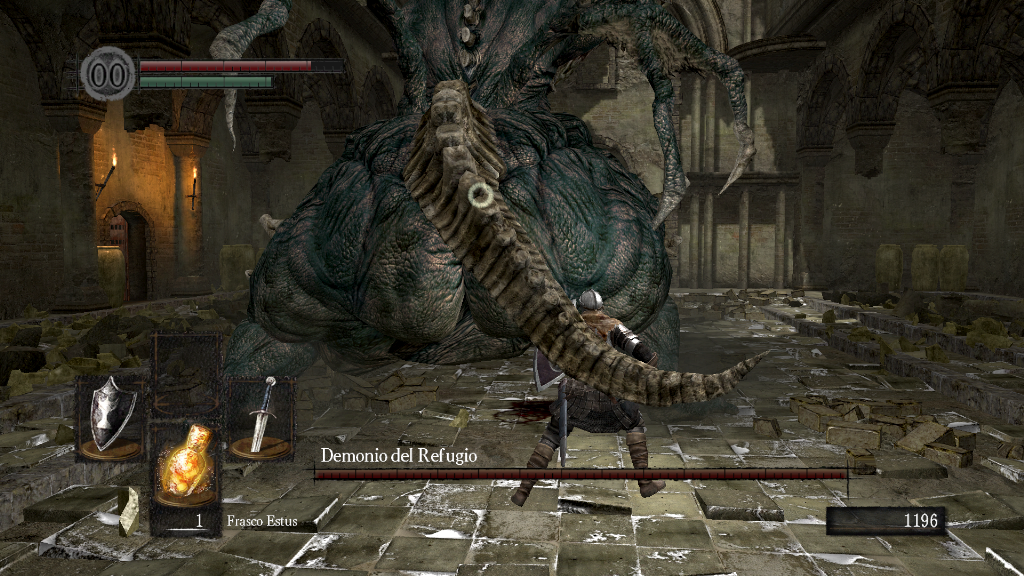asylumDemon: (196, 1, 778, 428)
bossHP: (314, 469, 847, 479)
health: (138, 58, 343, 71)
humanity: (80, 45, 136, 102)
player: (508, 288, 668, 506)
souls: (825, 506, 945, 536)
stamina: (138, 74, 274, 88)
